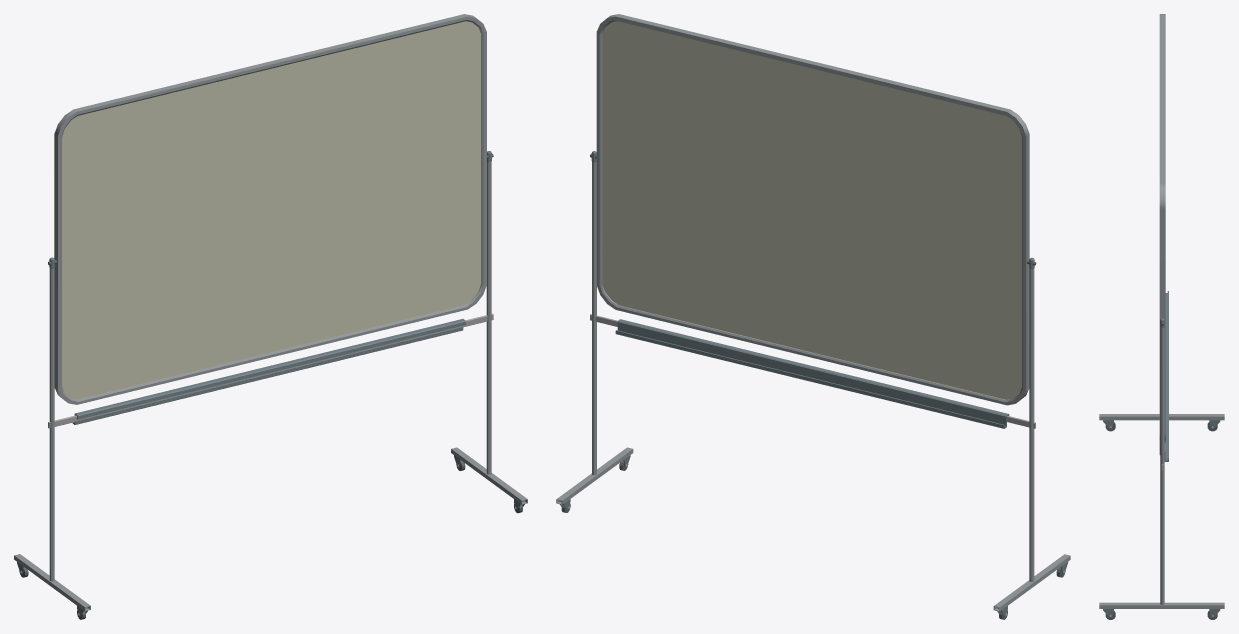
Rendered from Whiteboard.fbx.
The picture shows the model from 3 angles, left to right: view 1: azimuth 30°, elevation 25°; view 2: azimuth 150°, elevation 25°; view 3: azimuth 270°, elevation 25°; orthographic projection. The views are drawn at different scales.
Visible parts, largest first — view 1: pCube79, pCube90; view 2: pCube79, pCube90; view 3: pCube90, pCube79.
Boxes of the visible parts, x1,y1,x2,y2 form: pCube79: (54, 14, 486, 404); pCube90: (14, 151, 527, 619); pCube79: (596, 14, 1029, 405); pCube90: (556, 151, 1070, 619); pCube90: (1099, 291, 1224, 619); pCube79: (1159, 14, 1165, 442).
Bounding box in the file's own units: 2.39 × 2.47 × 0.6596.
